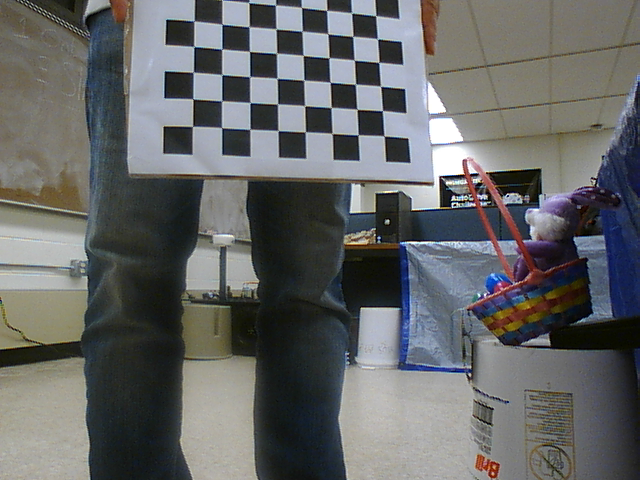bunny: (454, 151, 603, 347)
